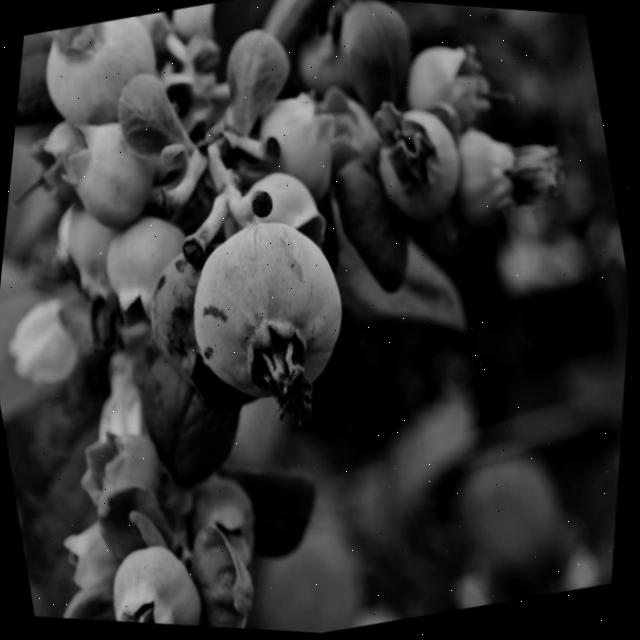RipeBlueBerry: (126, 226, 261, 409)
UnripeBlueBerry: (162, 197, 376, 426), (34, 4, 177, 139), (98, 530, 220, 630)
